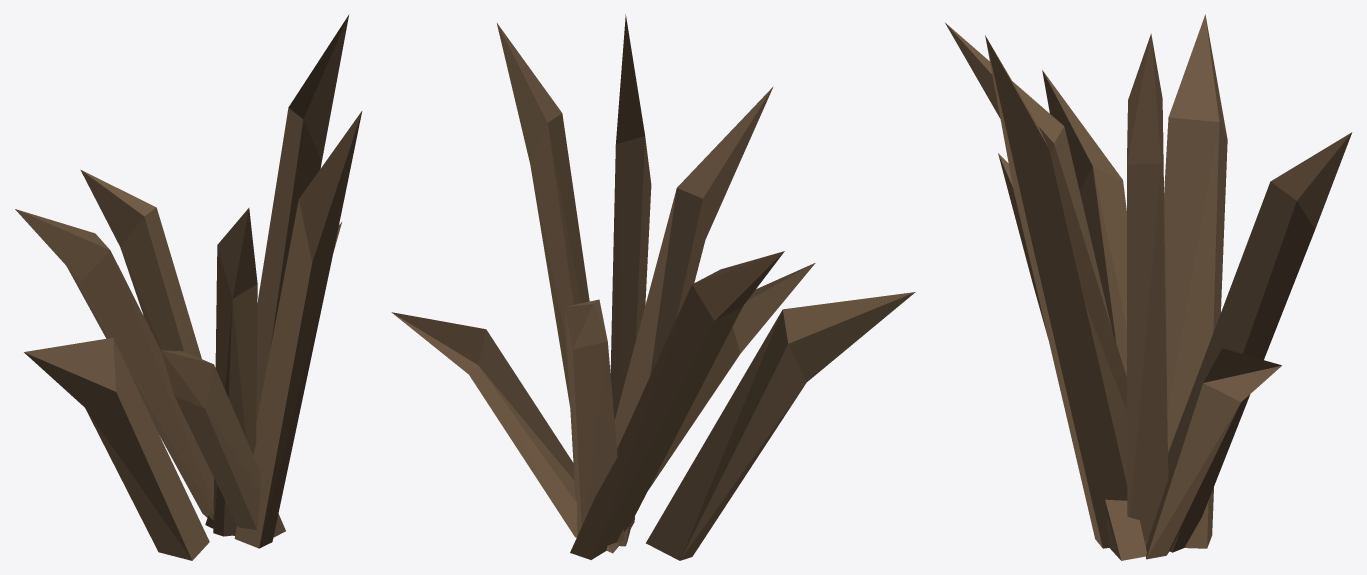
File: SM_Env_Plant_Grass_03.glb
3 views of the same model, side by side, from view 1: azimuth 30°, elevation 25°; view 2: azimuth 150°, elevation 25°; view 3: azimuth 270°, elevation 25° (orthographic). The views are drawn at different scales.
Parts seen in each view (by area): view 1: SM_Env_Plant_Grass_03; view 2: SM_Env_Plant_Grass_03; view 3: SM_Env_Plant_Grass_03.
Boxes of the visible parts, box(x1,y1,x2,y2) form: SM_Env_Plant_Grass_03: box(15, 14, 362, 560); SM_Env_Plant_Grass_03: box(391, 14, 915, 560); SM_Env_Plant_Grass_03: box(945, 14, 1352, 560).
Size of the model in its own units: 65.46 by 72.56 by 46.98.
1 material, 1 textured.
